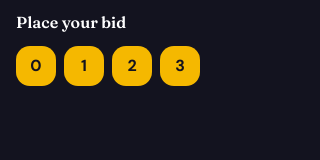
Test: BiddingPanel › shows a spinner after a bid button is clicked
Click the button named "Bid 0".
click(36, 66)  # box [16,46,56,86]
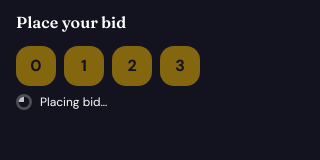
Expected: the element with test id "bid-submitting" is shown, [16,94,107,110]
Expected: the text "Placing bid…" is shown, [40,94,107,110]
